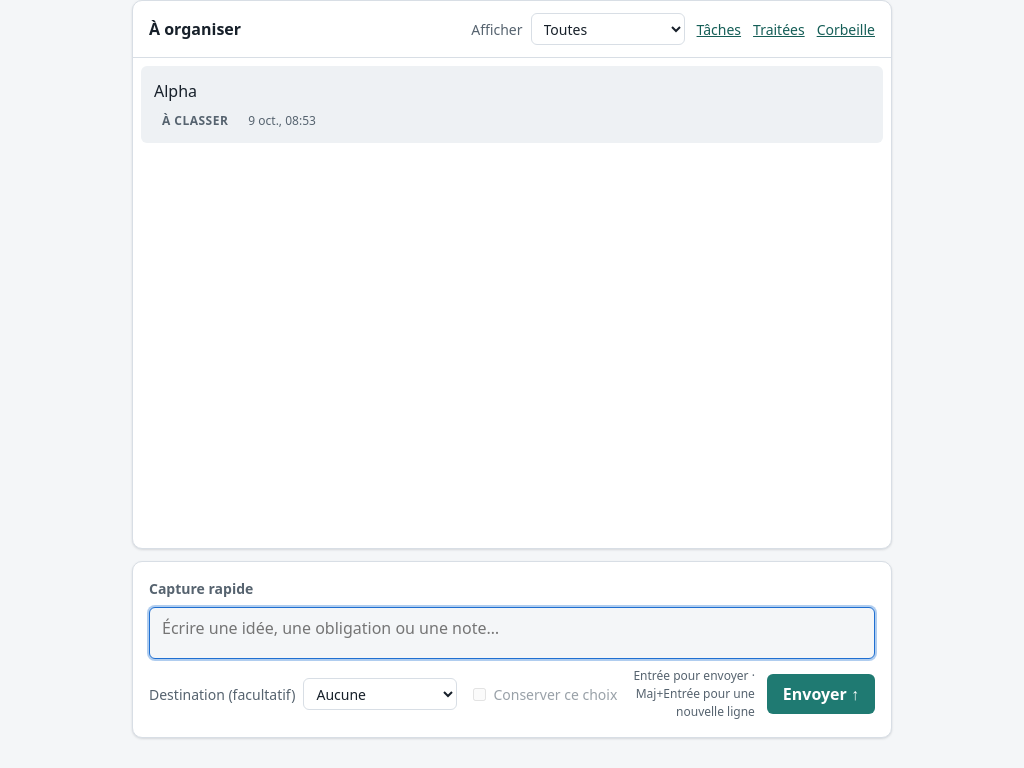
Disparition d'une capture mise à la corbeille (001-C) › mouvement réduit : disparition immédiate, notification affichée
Click the button "Alpha À classer 9 oct., 08:53" at (176, 91), box [142,67,882,142]
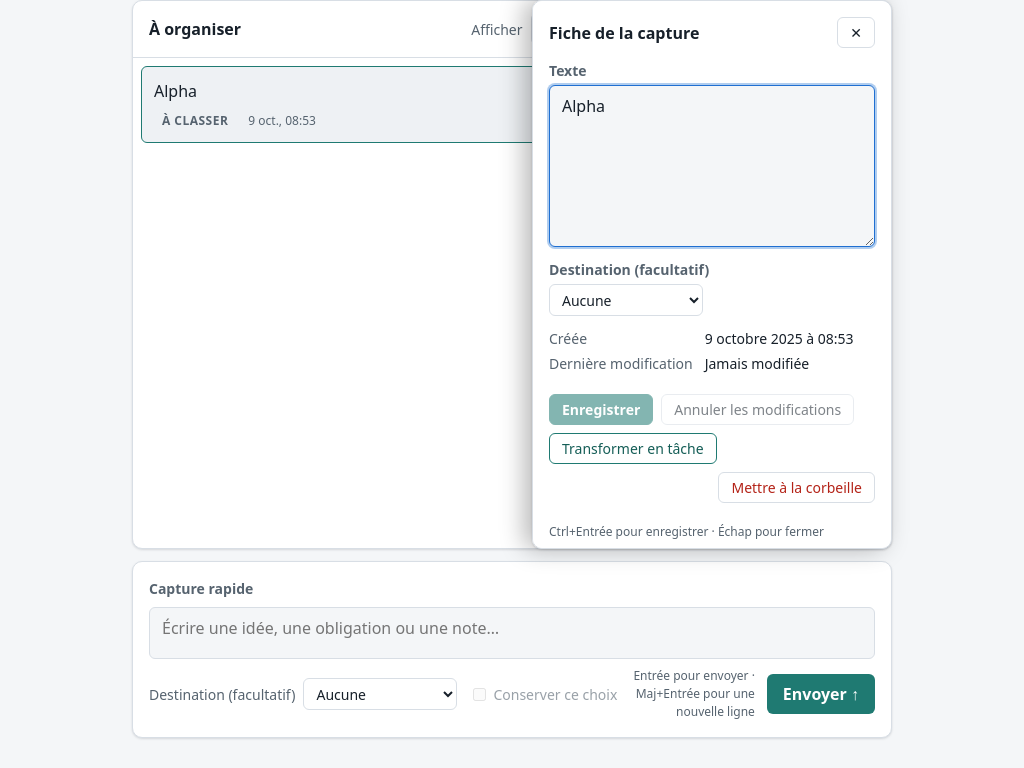
Click the button "Mettre à la corbeille" at (797, 488), box [718,472,875,503]
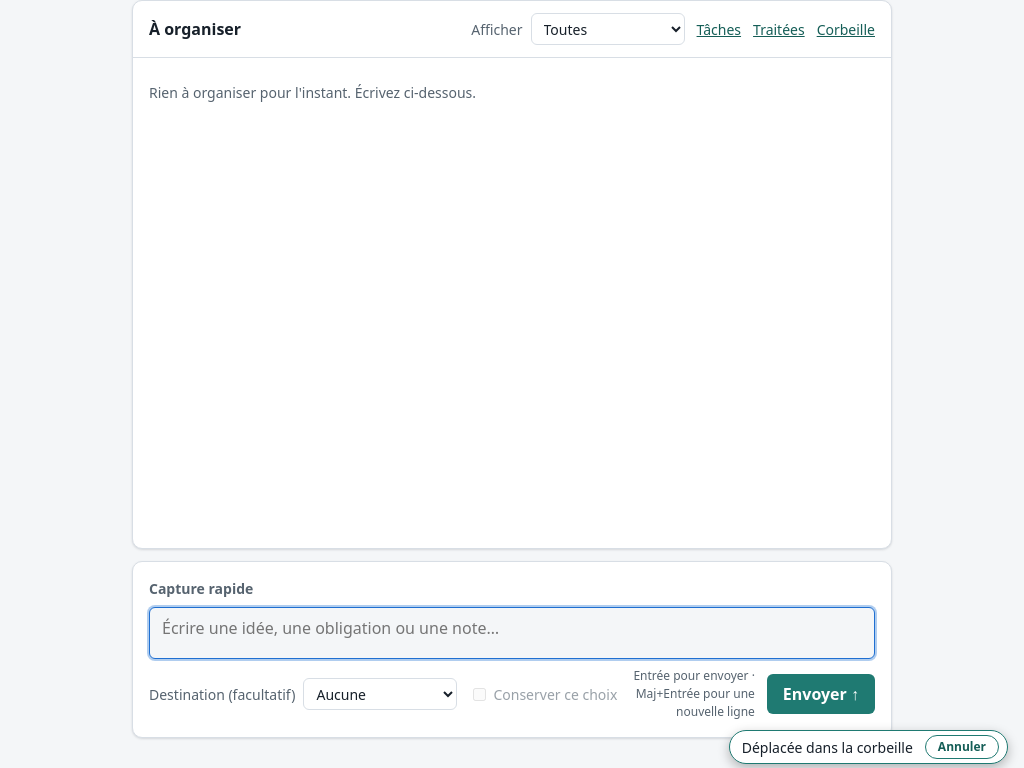
Expected: the text "Déplacée dans la corbeille" is shown, [742,737,913,758]
